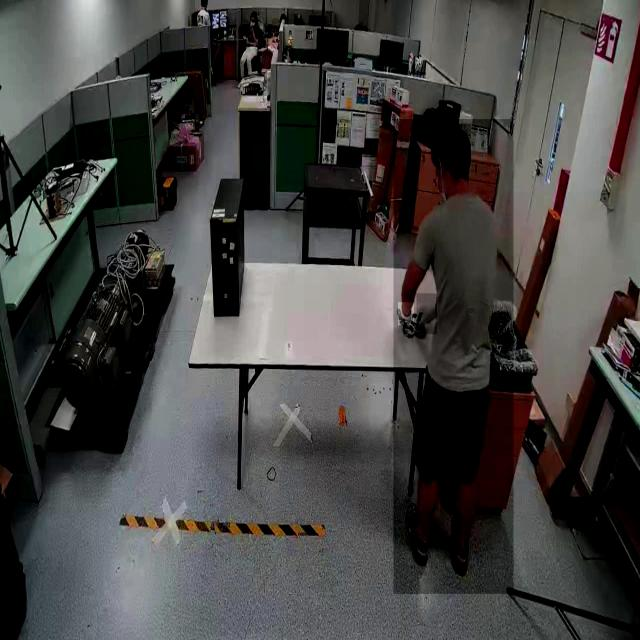face_mask: (248, 15, 254, 31)
hand_glove: (417, 294, 437, 334), (398, 302, 414, 326)
head_nohelmet: (431, 124, 471, 152), (252, 10, 258, 16)
person: (393, 119, 513, 595), (235, 8, 261, 83)
